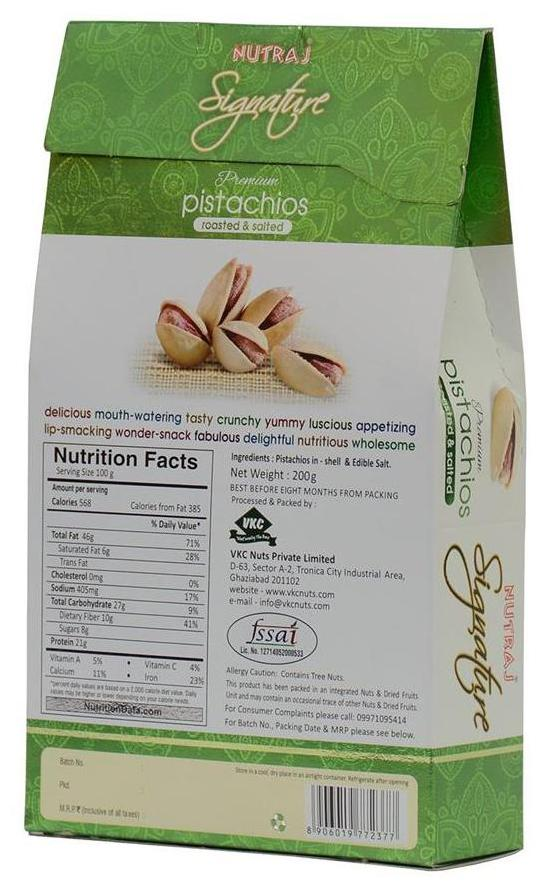fssai: (245, 620, 301, 645)
